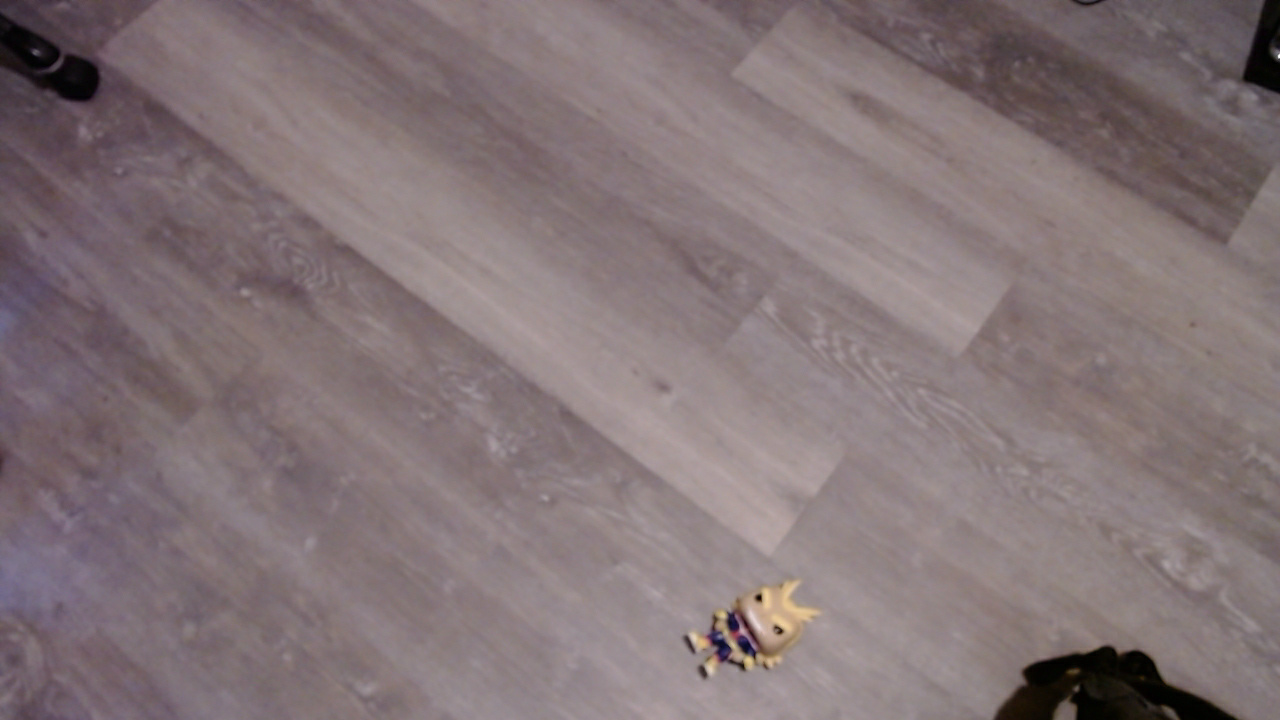all_might: (689, 575, 826, 690)
